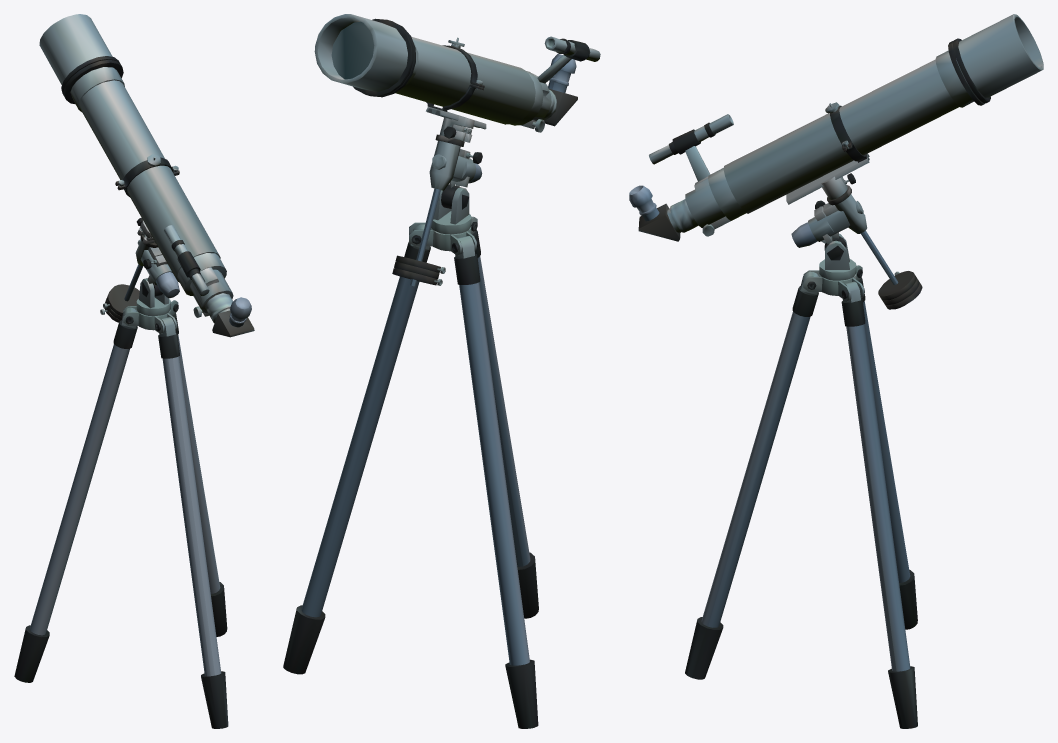
File: telescope.glb
The picture shows the model from 3 angles, left to right: view 1: azimuth 30°, elevation 25°; view 2: azimuth 150°, elevation 25°; view 3: azimuth 270°, elevation 25°; orthographic projection. The views are drawn at different scales.
Parts seen in each view (by area): view 1: telescope_q; view 2: telescope_q; view 3: telescope_q.
Part boxes in pixels (box(x1,y1,x2,y2)): telescope_q: box(14, 14, 254, 728); telescope_q: box(283, 14, 600, 728); telescope_q: box(629, 14, 1043, 728).
Bounding box in the file's own units: 0.508 × 1.4 × 0.7977.
